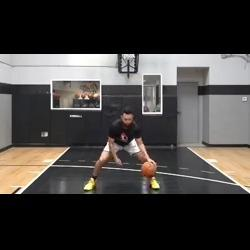BasketBall: (139, 159, 157, 178)
